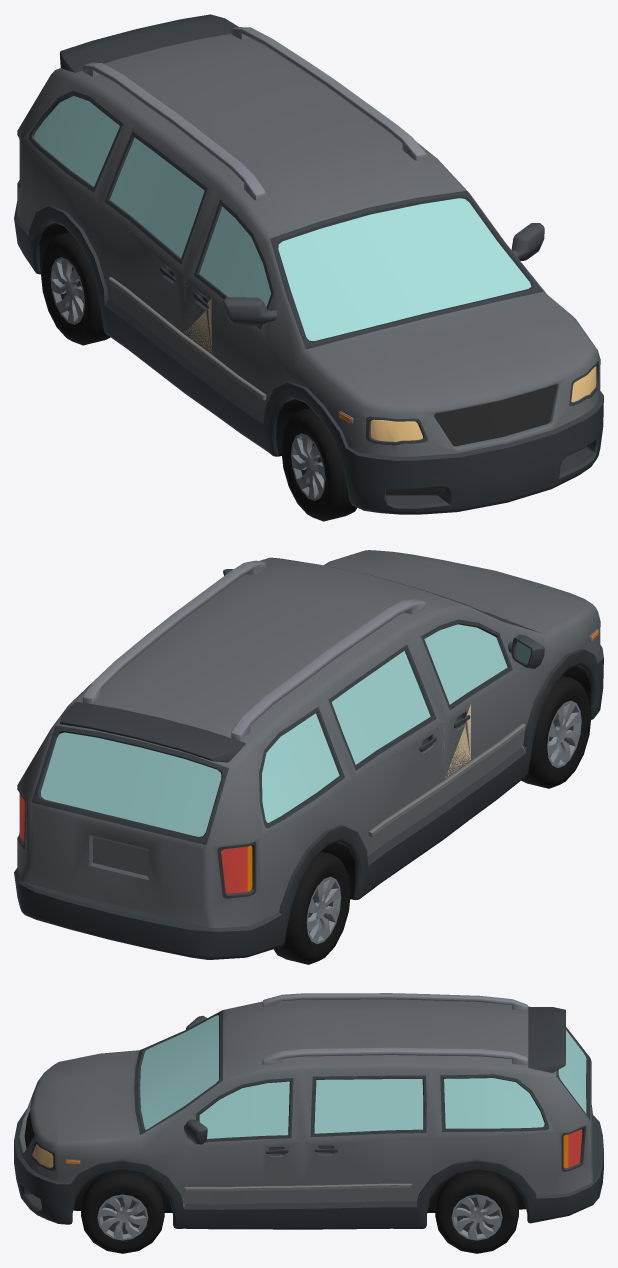
Rendered from SM_Vehicles_13_V1.fbx.
3 views of the same model, one above another, from view 1: azimuth 30°, elevation 25°; view 2: azimuth 150°, elevation 25°; view 3: azimuth 270°, elevation 25° (orthographic). The views are drawn at different scales.
Visible parts, largest first — view 1: SM_Vehicles_13_V1, SM_Vehicles_13_FR, SM_Vehicles_13_RR, SM_Vehicles_13_V2; view 2: SM_Vehicles_13_V1, SM_Vehicles_13_RR, SM_Vehicles_13_FR, SM_Vehicles_13_V2; view 3: SM_Vehicles_13_V1, SM_Vehicles_13_FL, SM_Vehicles_13_RL.
Part boxes in pixels (x1,y1,x2,y2): SM_Vehicles_13_V1: (14, 14, 603, 514); SM_Vehicles_13_FR: (281, 408, 356, 521); SM_Vehicles_13_RR: (40, 232, 110, 345); SM_Vehicles_13_V2: (184, 281, 211, 353); SM_Vehicles_13_V1: (14, 550, 603, 959); SM_Vehicles_13_RR: (273, 851, 350, 964); SM_Vehicles_13_FR: (521, 675, 591, 788); SM_Vehicles_13_V2: (444, 704, 470, 777); SM_Vehicles_13_V1: (14, 993, 603, 1229); SM_Vehicles_13_FL: (81, 1170, 164, 1253); SM_Vehicles_13_RL: (435, 1171, 518, 1253).
Size of the model in its own units: 2.1 by 1.61 by 4.57.
